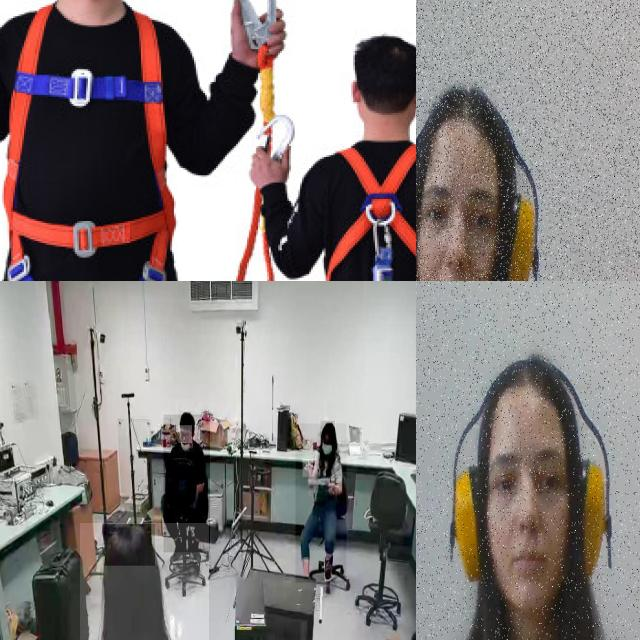Ear-protection: (435, 344, 619, 640), (416, 79, 553, 281)
Harness: (0, 0, 179, 281), (309, 138, 416, 281)
No_Glasses: (493, 444, 564, 509)
face_mask: (320, 431, 334, 460)
face_nomask: (178, 425, 192, 444)
glasses: (178, 430, 192, 443)
hand_noglove: (302, 459, 314, 478), (328, 480, 337, 494)
head_nohelmet: (102, 524, 156, 566), (179, 411, 195, 425), (320, 421, 336, 434)
person: (80, 523, 209, 640), (295, 424, 347, 584), (163, 414, 210, 552)
shoes: (166, 536, 185, 568), (322, 553, 337, 580), (189, 540, 204, 566)
